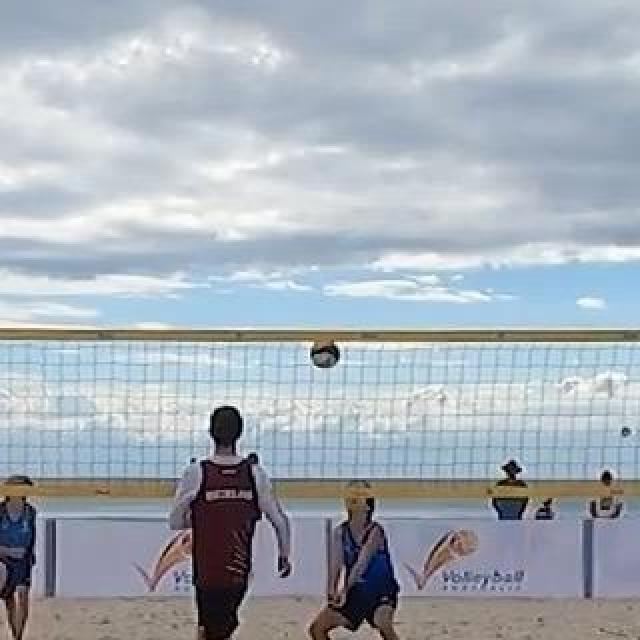volleyball: (313, 343, 341, 369), (600, 469, 616, 485)
